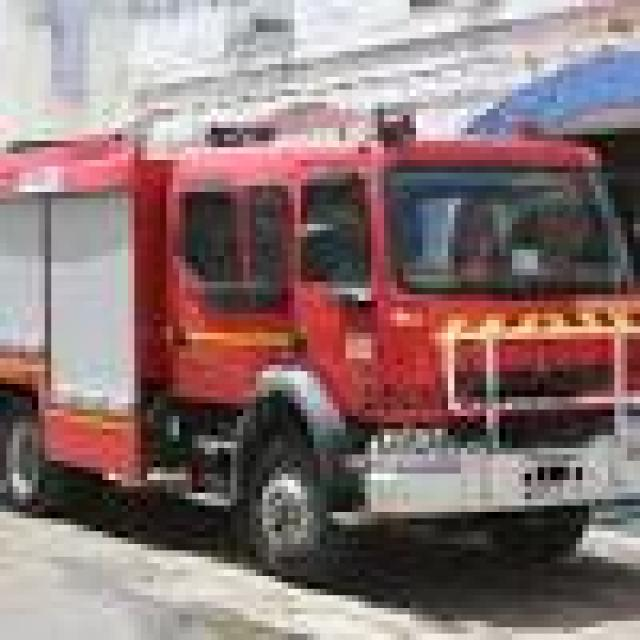pompier: (9, 114, 640, 558)
